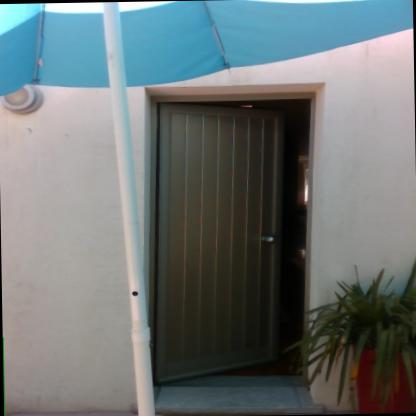semi: (129, 67, 328, 398)
